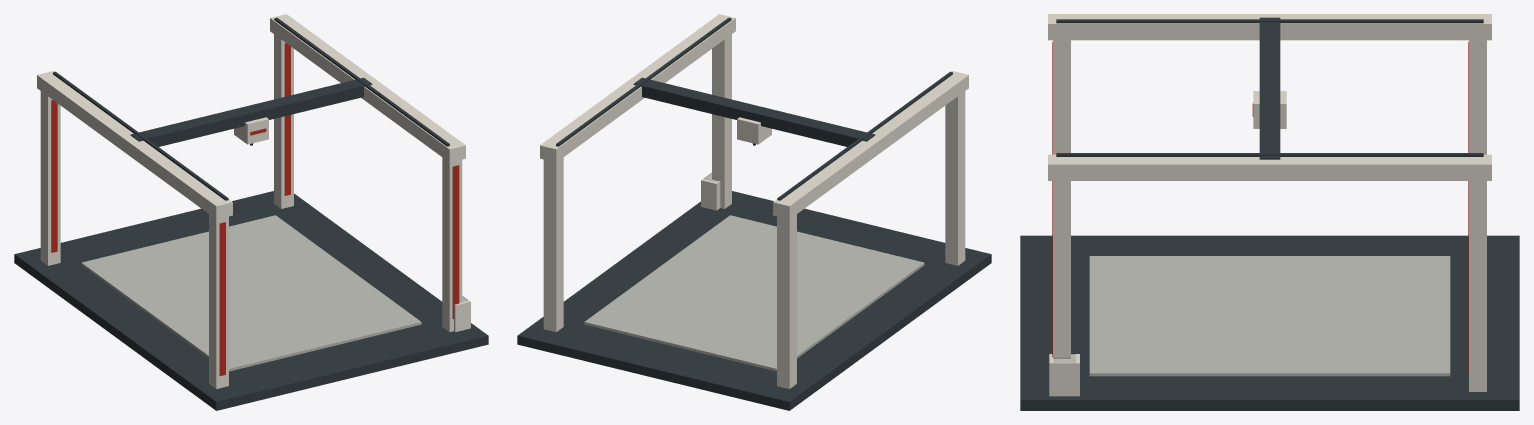
The picture shows the model from 3 angles, left to right: view 1: azimuth 30°, elevation 25°; view 2: azimuth 150°, elevation 25°; view 3: azimuth 270°, elevation 25°; orthographic projection. The views are drawn at different scales.
Visible parts, largest first — view 1: vehicle-printer-fleet-machine, vehicle-printer-fleet-edge, vehicle-printer-fleet-armor, printer-gantry-painted, vehicle-printer-fleet-red, printer-head-painted; view 2: vehicle-printer-fleet-machine, vehicle-printer-fleet-edge, vehicle-printer-fleet-armor, printer-gantry-painted, printer-head-painted; view 3: vehicle-printer-fleet-edge, vehicle-printer-fleet-machine, vehicle-printer-fleet-armor, printer-gantry-painted, vehicle-printer-fleet-red, printer-head-painted.
Boxes of the visible parts, box(x1,y1,x2,y2) form: vehicle-printer-fleet-machine: box(14, 17, 488, 410); vehicle-printer-fleet-edge: box(81, 215, 421, 371); vehicle-printer-fleet-armor: box(37, 14, 470, 388); printer-gantry-painted: box(130, 77, 372, 146); vehicle-printer-fleet-red: box(51, 43, 459, 375); printer-head-painted: box(234, 117, 268, 145); vehicle-printer-fleet-machine: box(517, 17, 991, 410); vehicle-printer-fleet-edge: box(584, 215, 924, 371); vehicle-printer-fleet-armor: box(540, 14, 968, 388); printer-gantry-painted: box(633, 77, 875, 146); printer-head-painted: box(737, 117, 771, 145); vehicle-printer-fleet-edge: box(1089, 256, 1450, 376); vehicle-printer-fleet-machine: box(1020, 19, 1519, 410); vehicle-printer-fleet-armor: box(1048, 14, 1491, 396); printer-gantry-painted: box(1259, 17, 1280, 159); vehicle-printer-fleet-red: box(1052, 41, 1468, 374); printer-head-painted: box(1252, 91, 1286, 128).
Size of the model in its own units: 73.68 by 50.63 by 94.74.
